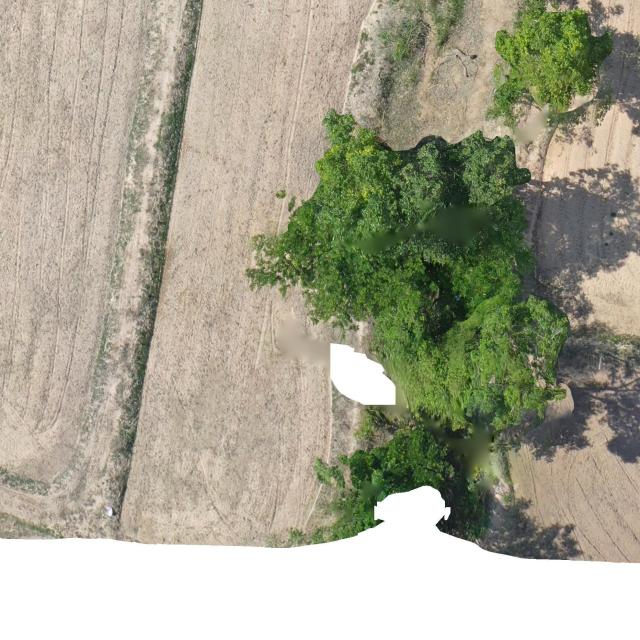Tree: (242, 108, 533, 338), (369, 272, 574, 437), (310, 423, 462, 547), (484, 0, 617, 126)
